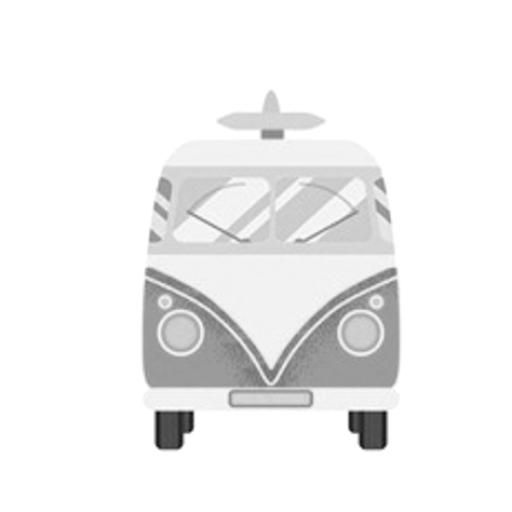van: (142, 136, 400, 452)
